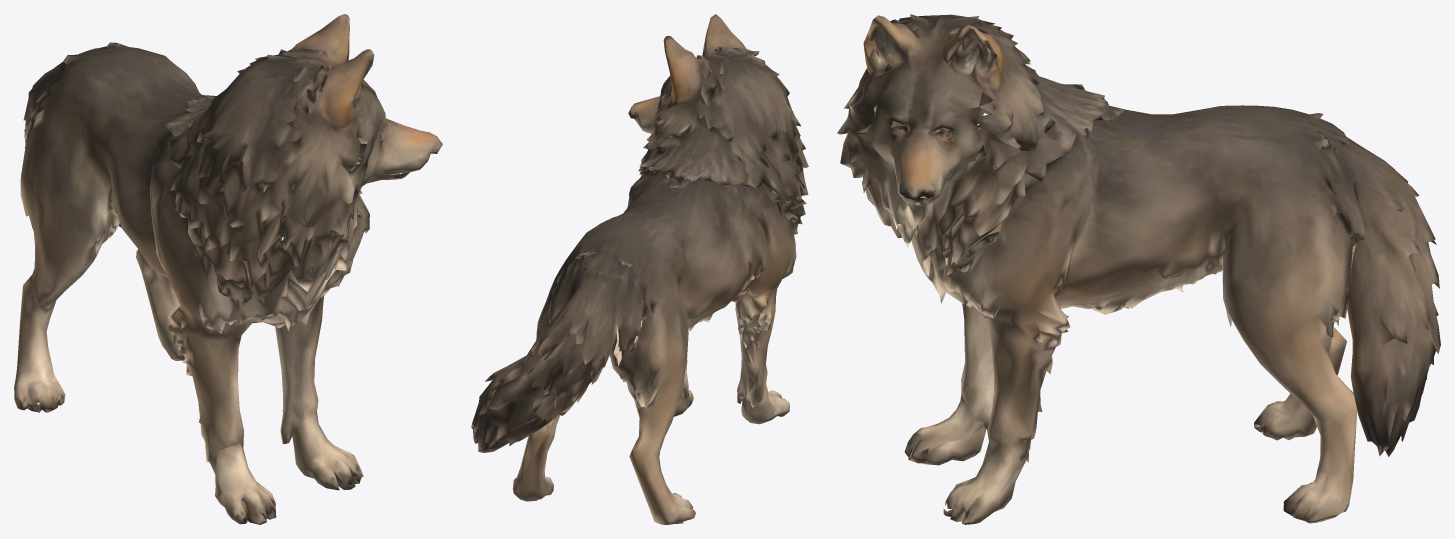
File: wolf.glb
3 views of the same model, side by side, from view 1: azimuth 30°, elevation 25°; view 2: azimuth 150°, elevation 25°; view 3: azimuth 270°, elevation 25° (orthographic). The views are drawn at different scales.
Parts seen in each view (by area): view 1: wolf.raw; view 2: wolf.raw; view 3: wolf.raw.
Boxes of the visible parts, box(x1,y1,x2,y2) form: wolf.raw: box(14, 14, 442, 524); wolf.raw: box(471, 14, 808, 524); wolf.raw: box(837, 14, 1440, 524).
Size of the model in its own units: 0.4779 by 0.8501 by 0.9426.
1 material, 1 textured.
